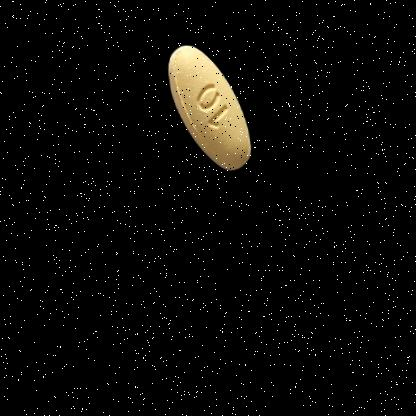tovast10: (133, 17, 285, 205)
